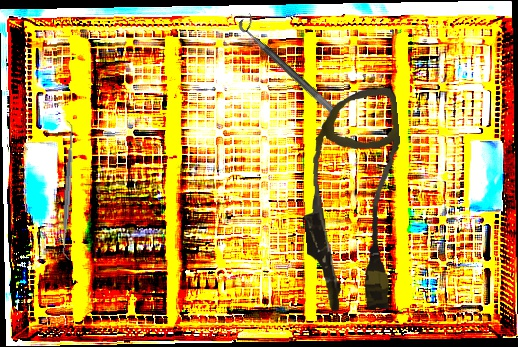Cannula: (293, 86, 415, 316)
Fixation Ring: (235, 12, 345, 115)
Spatula Surgical: (55, 120, 81, 261)
